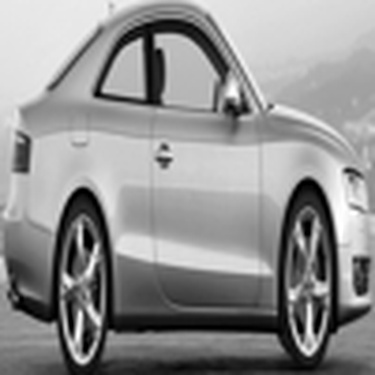car: (1, 3, 371, 372)
